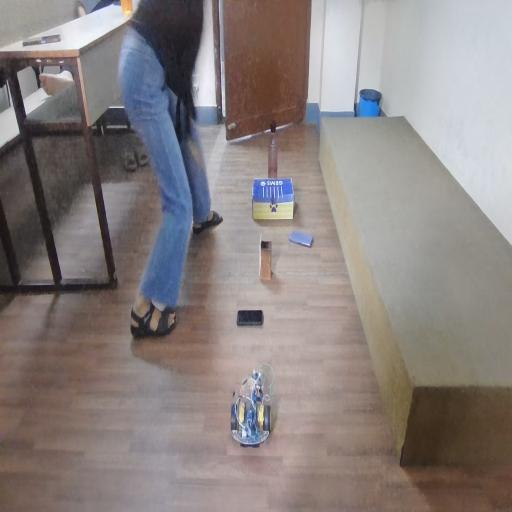Bottle: (261, 116, 286, 171)
car: (237, 361, 289, 473)
